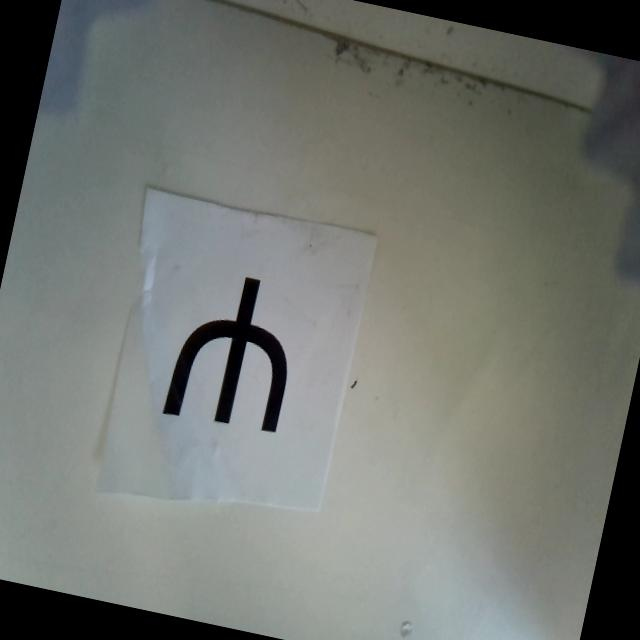nedoF: (160, 264, 308, 437)
